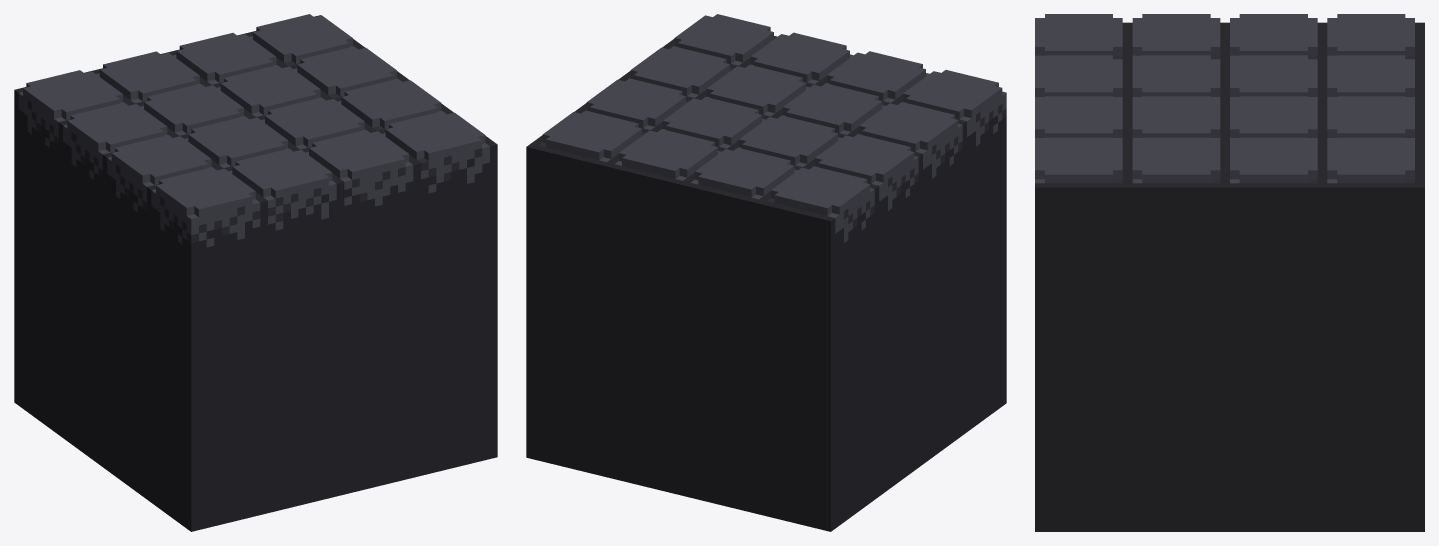
Rendered from Floor_01.obj.
3 renders of one model, left to right at view 1: azimuth 30°, elevation 25°; view 2: azimuth 150°, elevation 25°; view 3: azimuth 270°, elevation 25°, orthographic. The views are drawn at different scales.
Size of the model in its own units: 4 by 4 by 4.
Materials: 1 (1 with a texture image).
